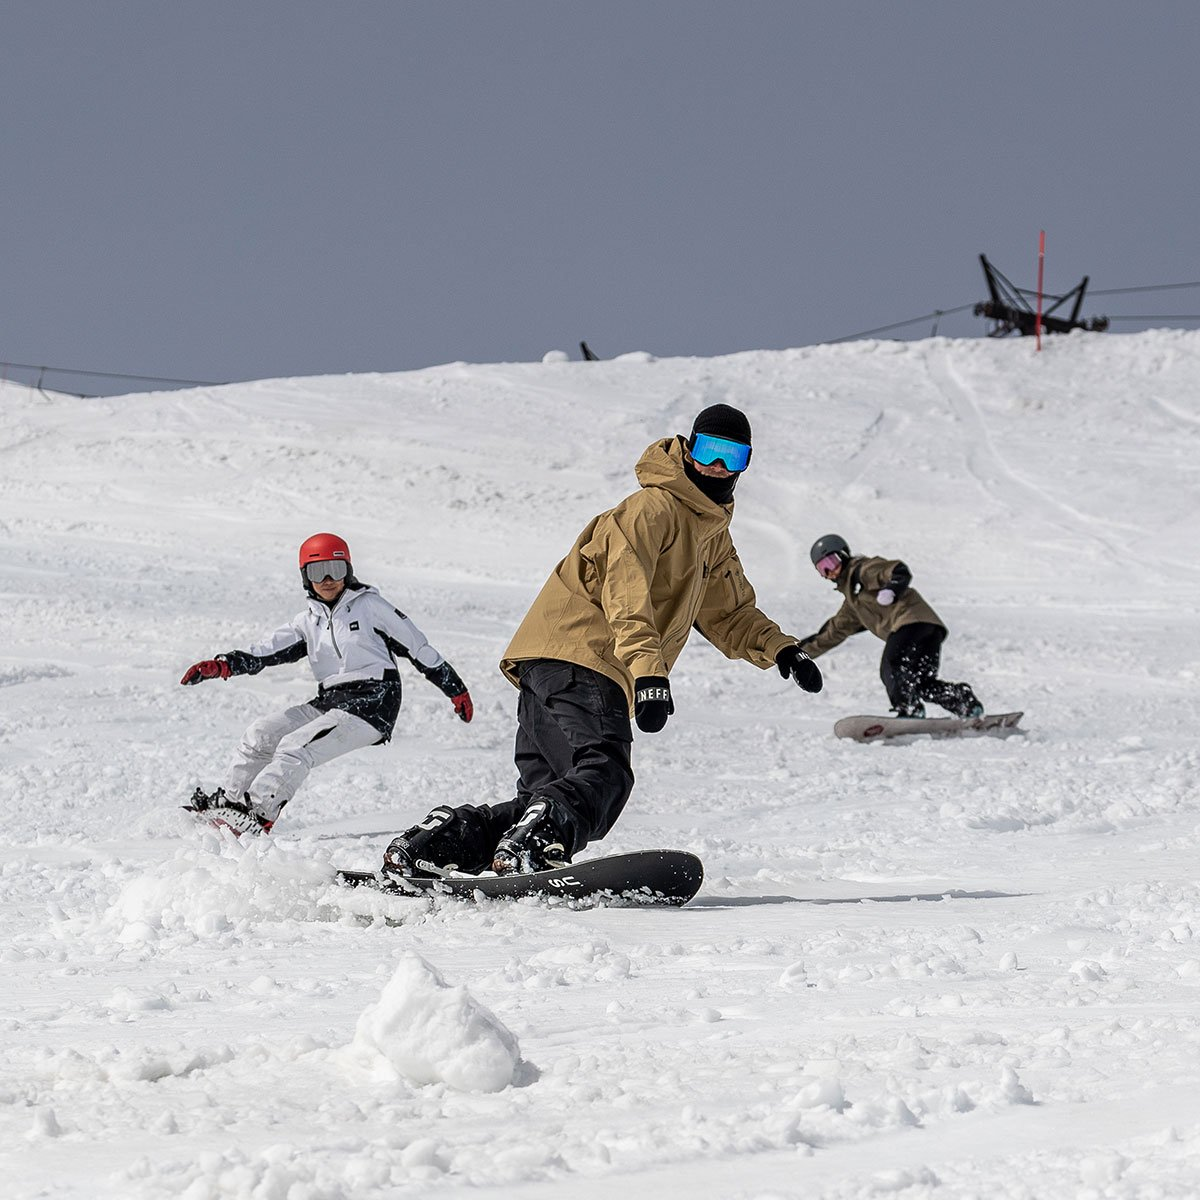snowboarder: (333, 397, 826, 910), (803, 527, 1030, 749)
